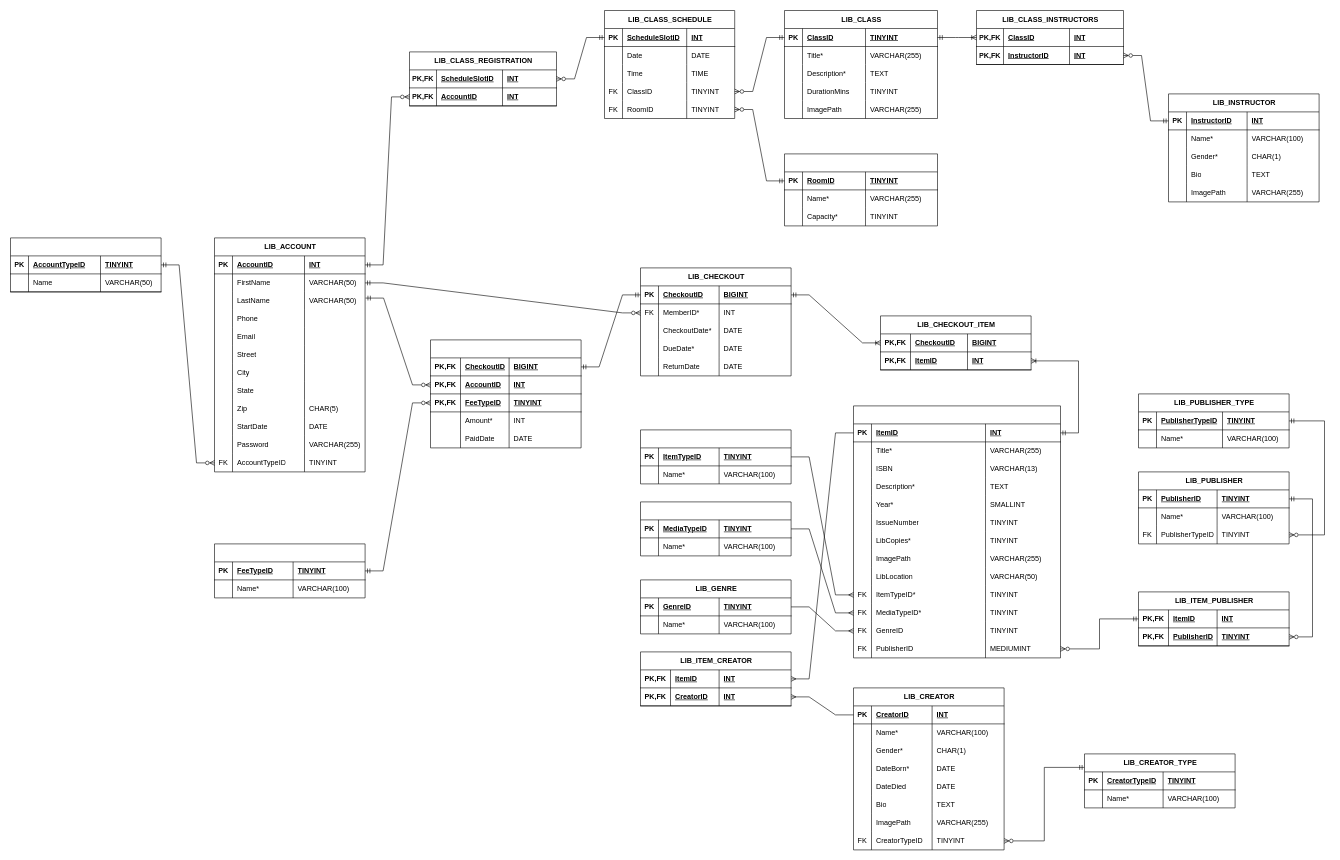
This 1340x860 diagram has some shape labels left out. The shapes that lost their labels are listed below. From the top down, each one's box as (x1, y1, x2, y2) in pixels, then its label:
(784, 153, 938, 226): LIB_ROOM
(10, 237, 161, 292): LIB_ACCOUNT_TYPE
(430, 339, 581, 448): LIB_FEES
(640, 429, 791, 484): LIB_ITEM_TYPE
(640, 501, 791, 556): LIB_MEDIA_TYPE
(853, 405, 1060, 658): LIB_ITEM
(214, 543, 365, 598): LIB_FEE_TYPE
